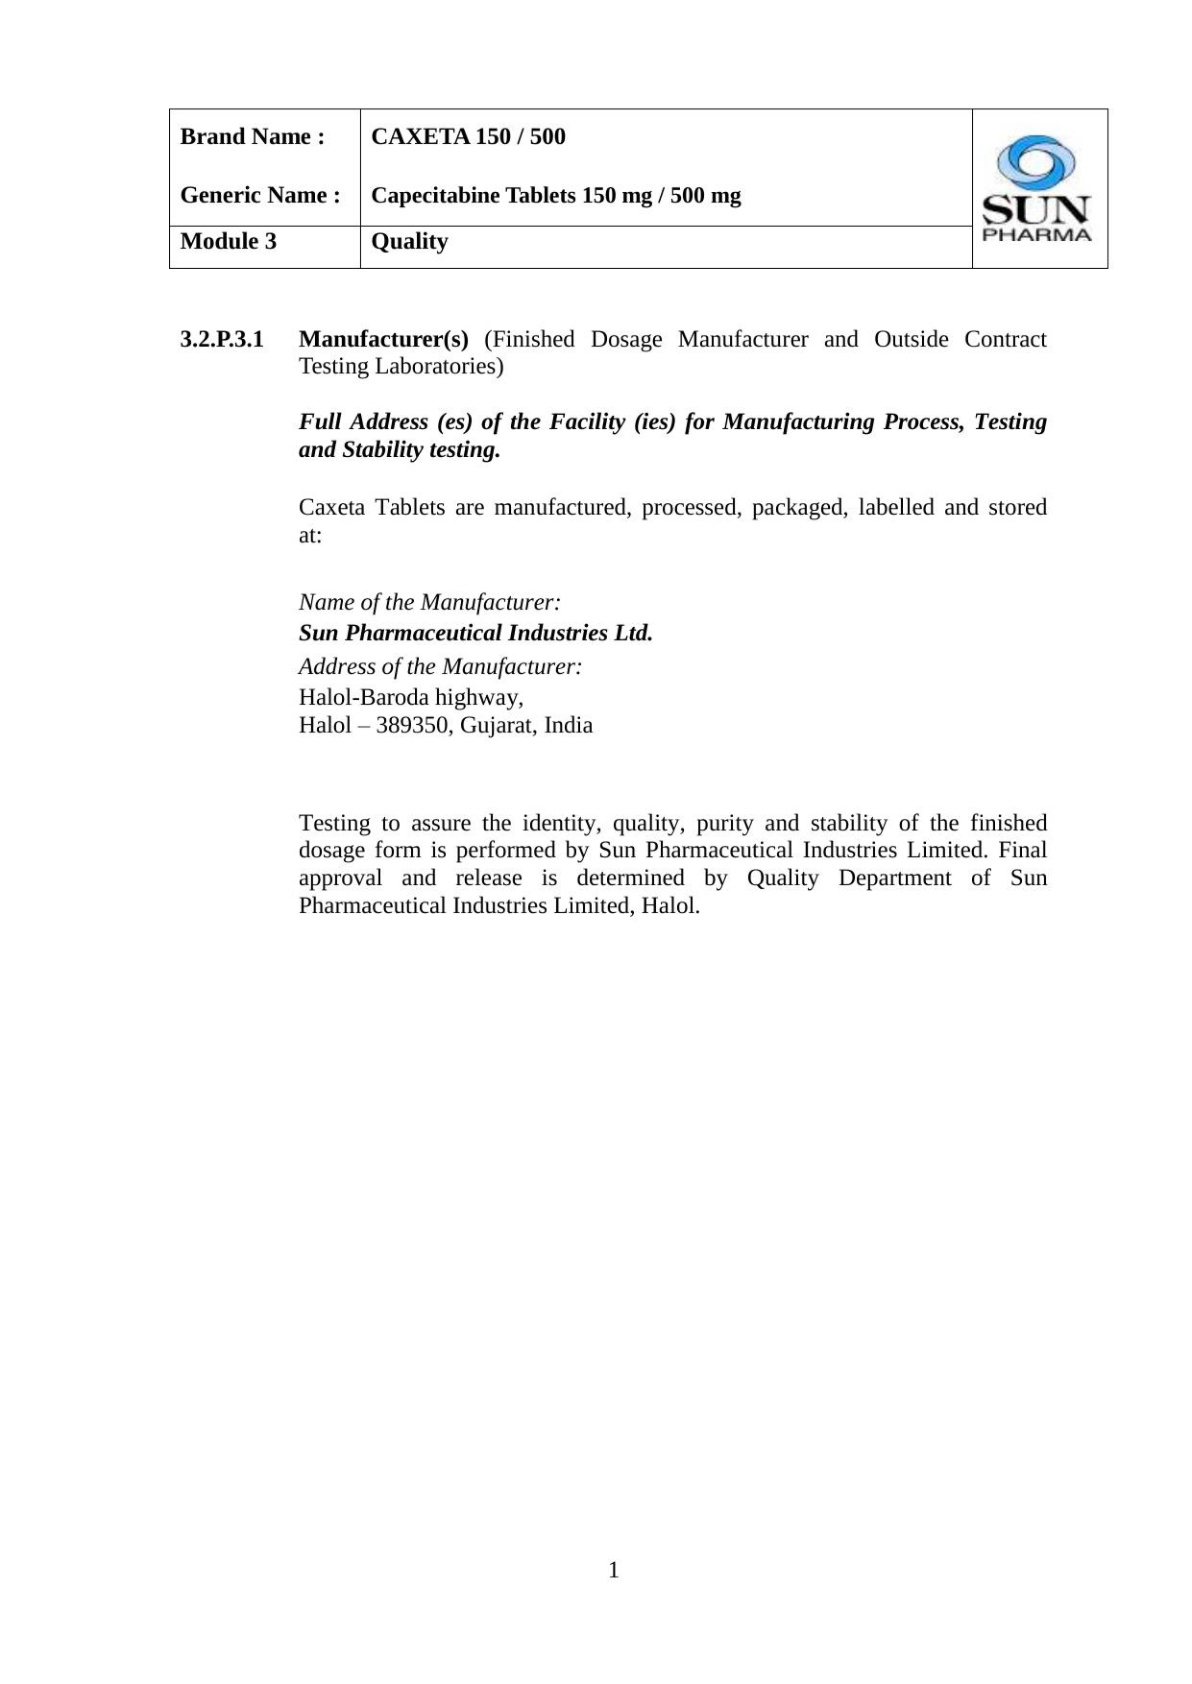full_lined: (168, 107, 1109, 269)
